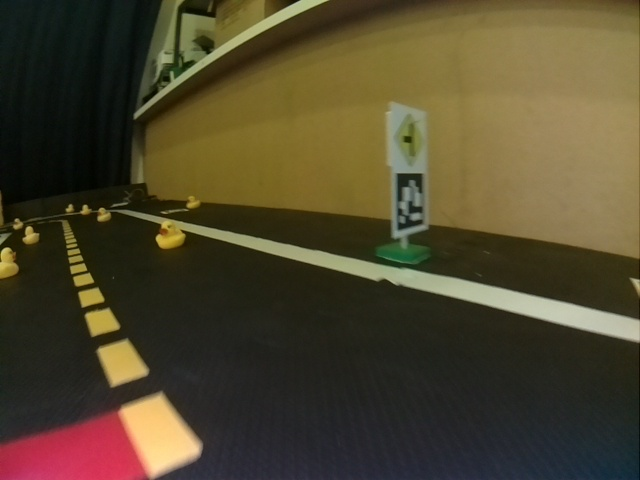Duckie: (157, 223, 185, 247), (2, 249, 18, 278), (23, 227, 39, 244), (97, 208, 110, 221), (81, 205, 90, 214), (13, 218, 21, 227), (187, 196, 195, 205), (66, 204, 74, 212)
Intersection sign: (391, 110, 427, 166)
QR code: (394, 172, 427, 232)
